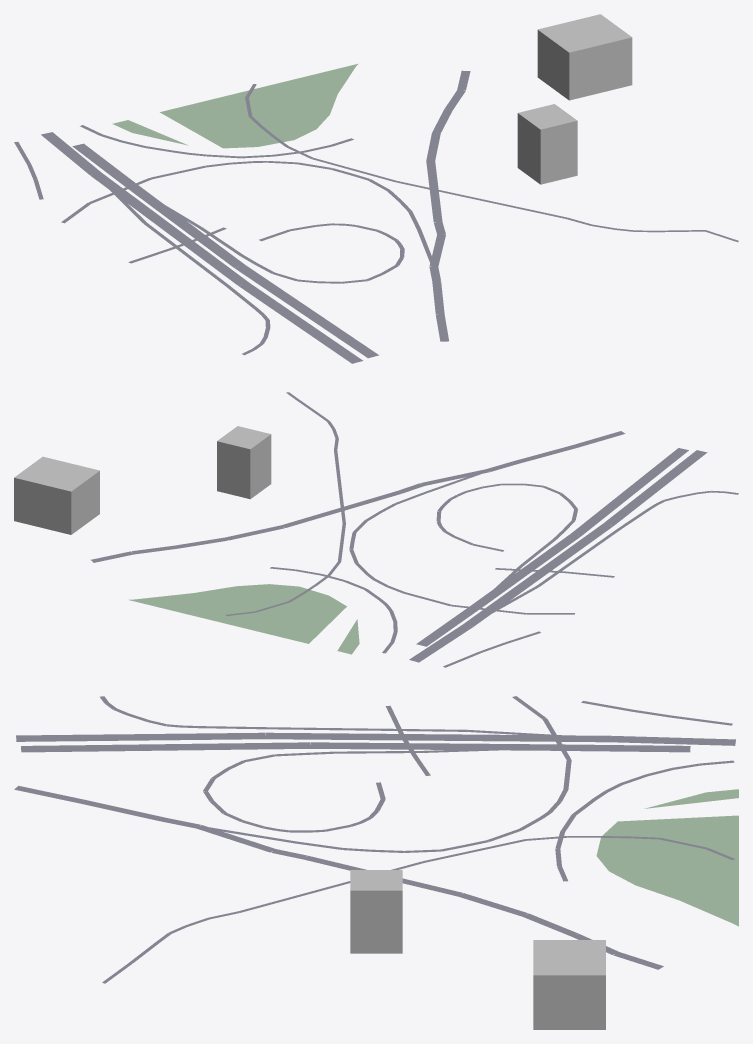
File: 94_108_mid.glb
The picture shows the model from 3 angles, top to bottom: view 1: azimuth 30°, elevation 25°; view 2: azimuth 150°, elevation 25°; view 3: azimuth 270°, elevation 25°; orthographic projection. The views are drawn at different scales.
Bounding box in the file's own units: 523 × 48.27 × 496.
